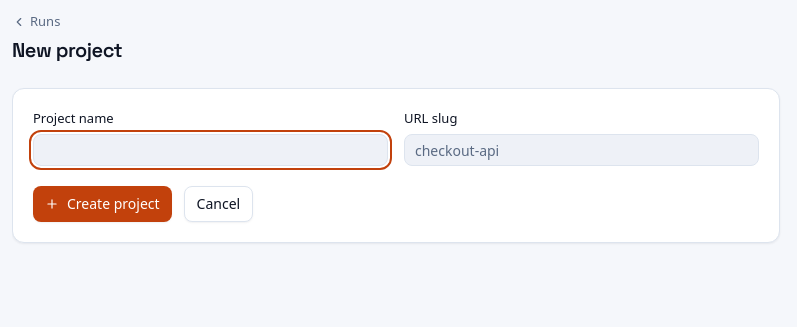
it: NewProject › keeps invalid project details in the form
In the field labelled "Project name": (210, 150) [33,134,388,166], type "A"
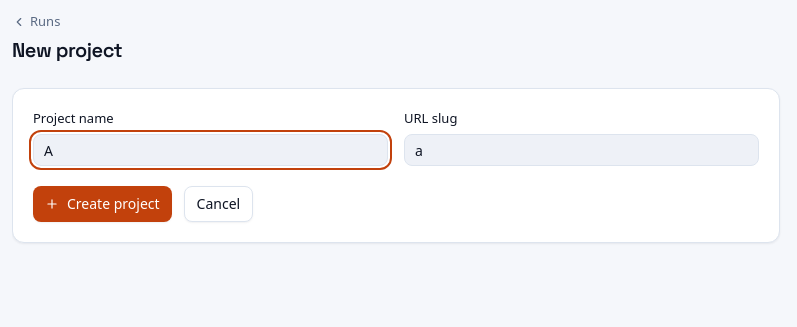
Click the button "Create project": (102, 204) [33,186,172,222]
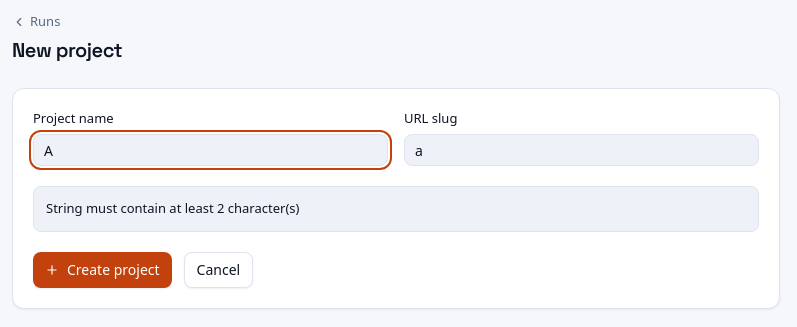
Expected: the message shows "at least 2 character", [46,199,299,217]
